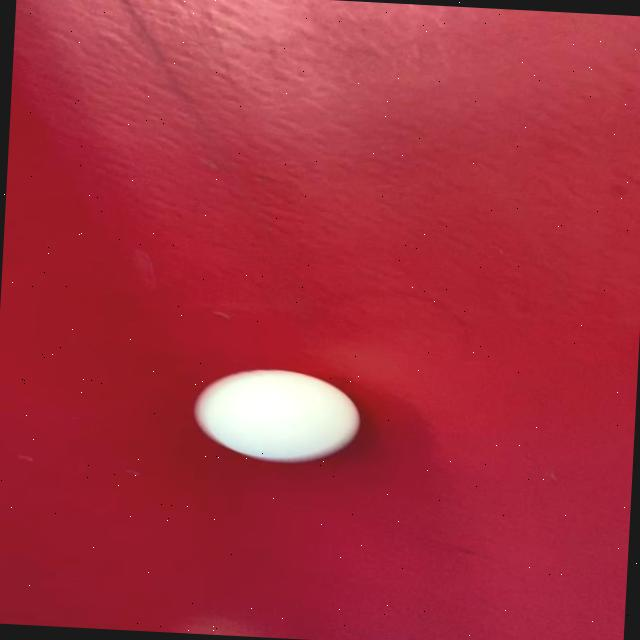ping-pong-ball: (178, 358, 380, 470)
